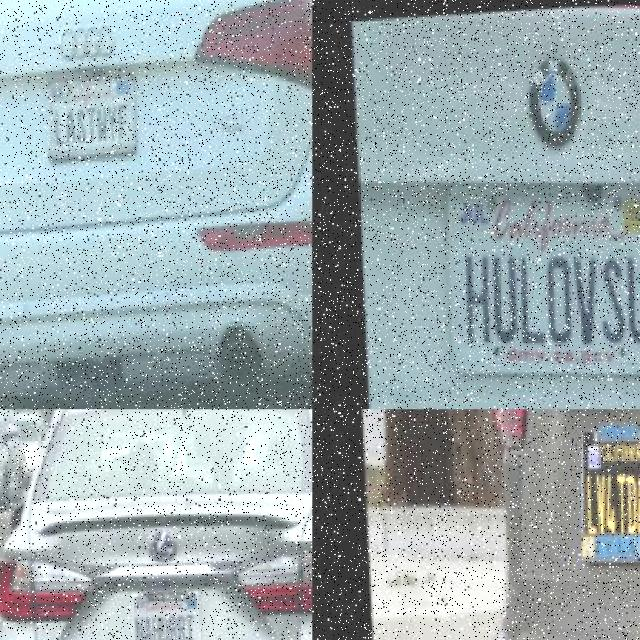licenseplate: (437, 158, 640, 394), (42, 62, 144, 165), (574, 417, 640, 565), (132, 580, 205, 640)
